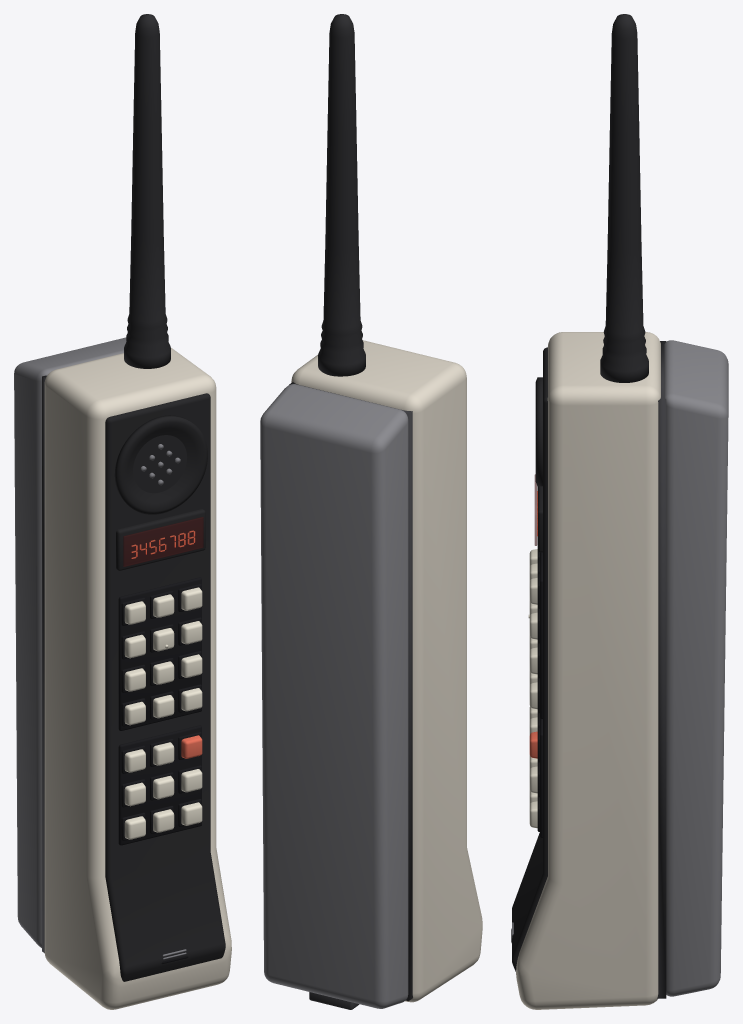
Rendered from dynatac_highres.glb.
3 views of the same model, side by side, from view 1: azimuth 30°, elevation 25°; view 2: azimuth 150°, elevation 25°; view 3: azimuth 270°, elevation 25° (orthographic). The views are drawn at different scales.
Visible parts, largest first — view 1: DynaTAC_Beige_Body, DynaTAC_Faceplate, DynaTAC_Battery_Pack, Whip_Antenna, NumPad_Plate, Earpiece_Dish, FnPad_Plate, LED_Bezel, LED_Lens, Chassis_Battery_Seam; view 2: DynaTAC_Battery_Pack, DynaTAC_Beige_Body, Whip_Antenna, Chassis_Battery_Seam; view 3: DynaTAC_Beige_Body, DynaTAC_Battery_Pack, Whip_Antenna, Chassis_Battery_Seam, DynaTAC_Faceplate, Earpiece_Dish.
Part boxes in pixels (x1,y1,x2,y2): DynaTAC_Beige_Body: [44, 348, 231, 1009]; DynaTAC_Faceplate: [105, 393, 225, 981]; DynaTAC_Battery_Pack: [14, 337, 126, 947]; Whip_Antenna: [124, 14, 170, 368]; NumPad_Plate: [118, 577, 201, 730]; Earpiece_Dish: [114, 415, 207, 514]; FnPad_Plate: [118, 725, 201, 845]; LED_Bezel: [116, 509, 205, 570]; LED_Lens: [123, 517, 203, 566]; Chassis_Battery_Seam: [42, 375, 46, 952]; DynaTAC_Battery_Pack: [260, 384, 408, 1008]; DynaTAC_Beige_Body: [291, 340, 482, 1002]; Whip_Antenna: [318, 14, 365, 376]; Chassis_Battery_Seam: [289, 382, 412, 1001]; DynaTAC_Beige_Body: [516, 332, 660, 1009]; DynaTAC_Battery_Pack: [664, 340, 728, 996]; Whip_Antenna: [600, 14, 648, 382]; Chassis_Battery_Seam: [657, 341, 666, 998]; DynaTAC_Faceplate: [512, 347, 547, 971]; Earpiece_Dish: [535, 377, 542, 486].
Size of the model in its own units: 0.0397 by 0.28 by 0.0561.
